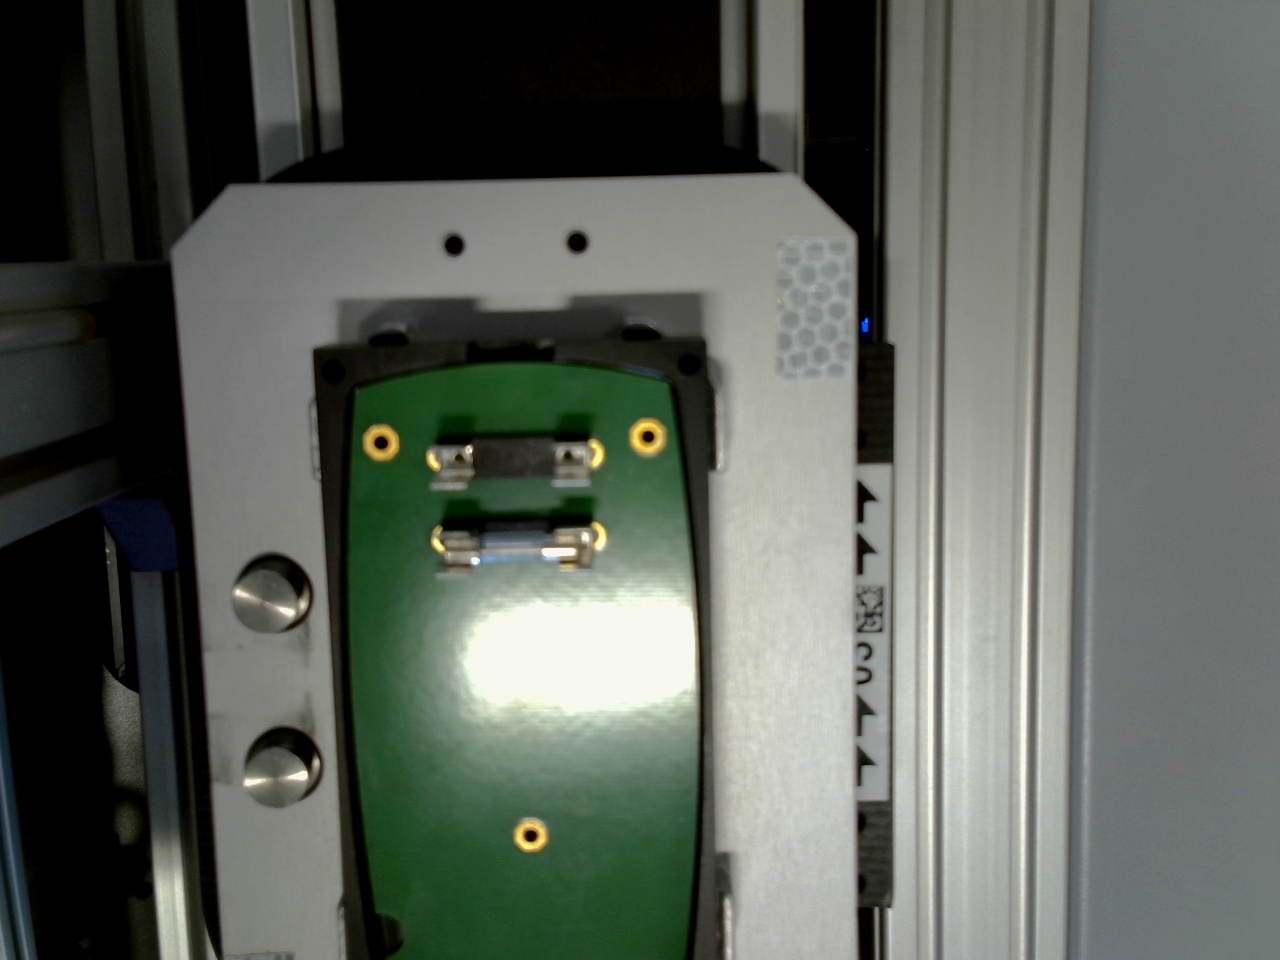Onefuse: (444, 532, 585, 573)
